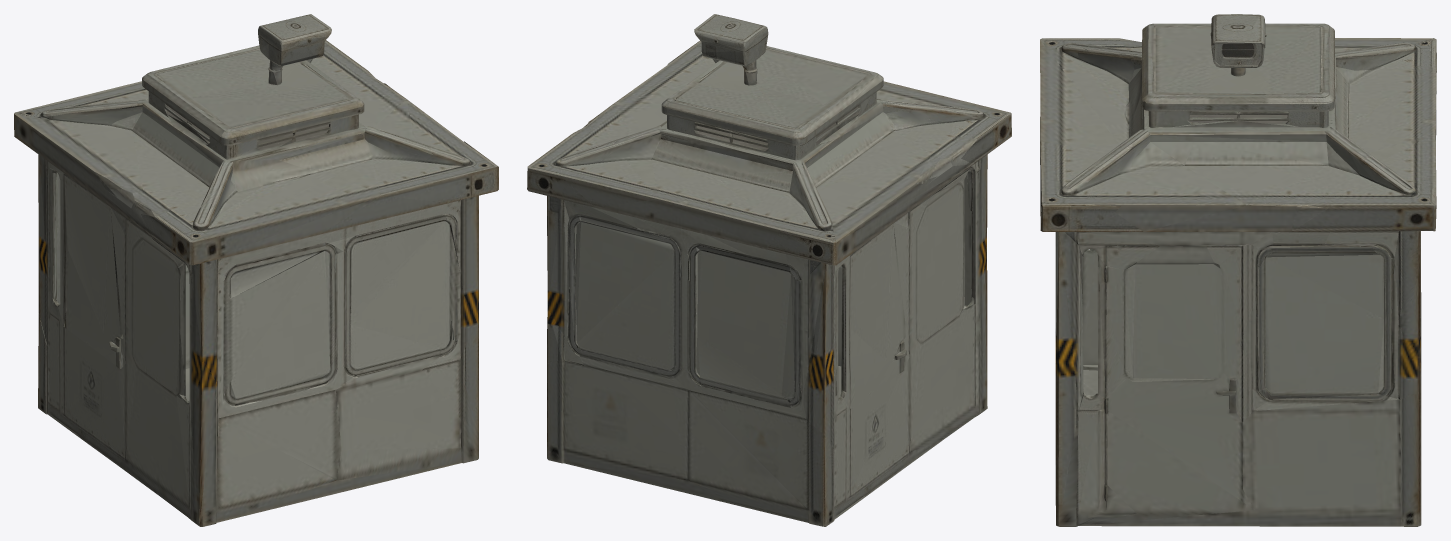
File: web.glb
The picture shows the model from 3 angles, left to right: view 1: azimuth 30°, elevation 25°; view 2: azimuth 150°, elevation 25°; view 3: azimuth 270°, elevation 25°; orthographic projection. The views are drawn at different scales.
Visible parts, largest first — view 1: output_unwrapped; view 2: output_unwrapped; view 3: output_unwrapped.
Boxes of the visible parts, x1=… form: output_unwrapped: x1=14, y1=14, x2=498, y2=526; output_unwrapped: x1=527, y1=14, x2=1011, y2=526; output_unwrapped: x1=1040, y1=14, x2=1436, y2=526.
Bounding box in the file's own units: 1.54 × 1.9 × 1.54.
Materials: 1 (1 with a texture image).
